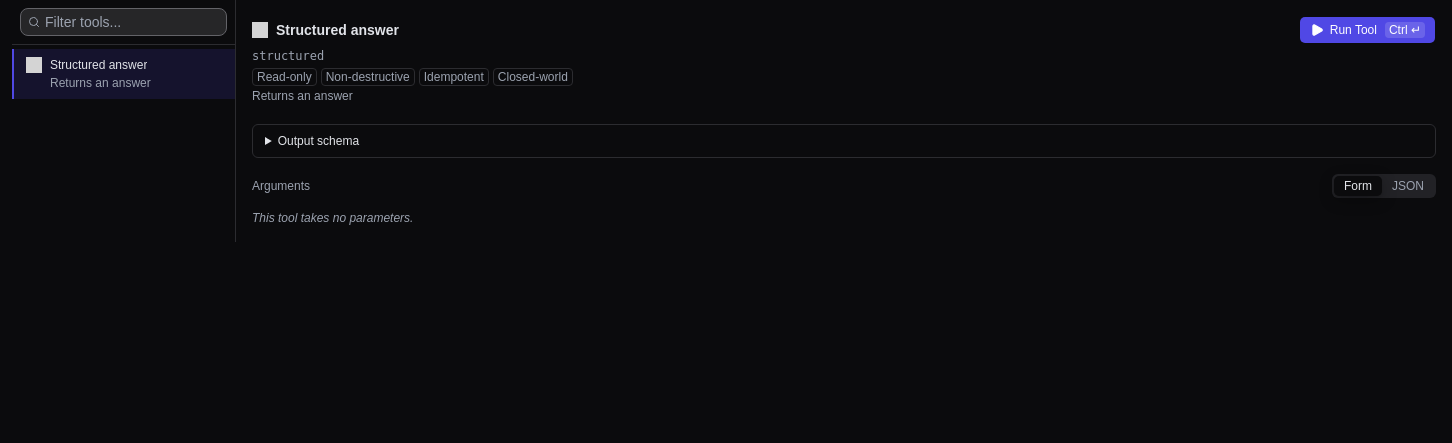
Test: shows the tool title, icon, explicit annotation hints and output schema
This screenshot has width=1452, height=443.
Later steps or results of the test are not shown.
expect the text "Read-only" is shown once: met, box [252,68,317,86]
expect the heading "Structured answer" is shown: met, box [252,20,399,40]
Click the heading "Output schema": (318, 141) [278,134,359,148]
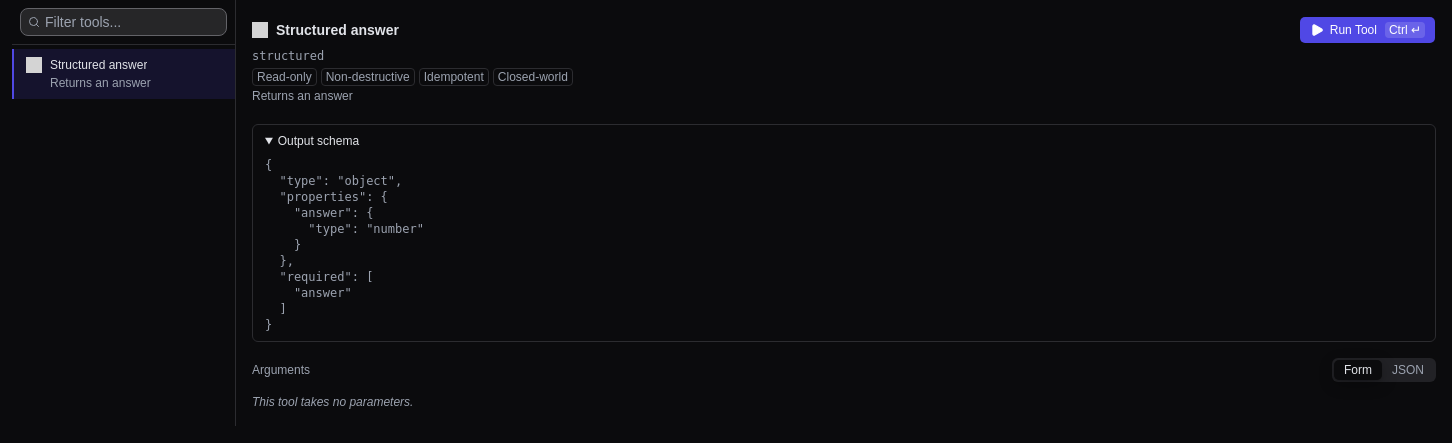
expect the text "\"answer\":" is shown: met, box [265,158,424,332]
